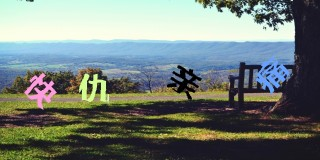亲: (167, 63, 202, 99)
仇: (76, 73, 112, 105)
快: (24, 71, 57, 109)
痛: (254, 59, 292, 95)
